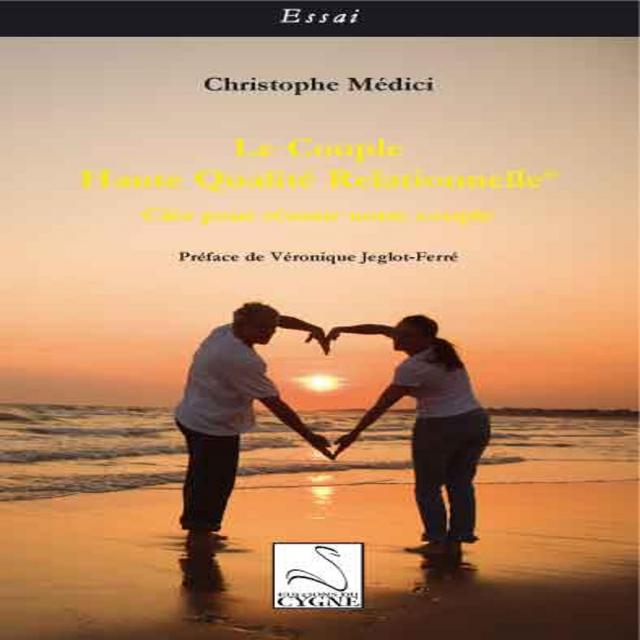nomask: (245, 312, 277, 345), (392, 320, 418, 350)
